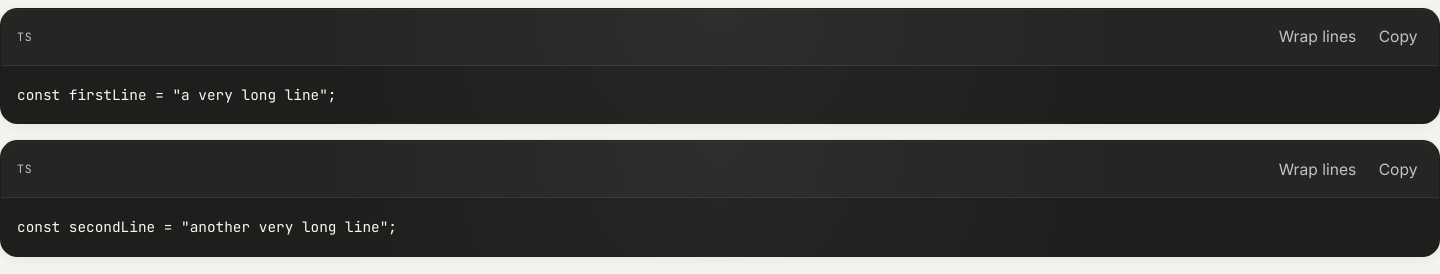
Scenario: CodeBlock › toggles wrapped mode for only the selected code block
Expected: the number of elements with test id "code-block" is 2, [0,8,1439,124]; [0,140,1439,257]
Click the 1st button "Wrap lines" at (1318, 37), box [1271,19,1364,55]
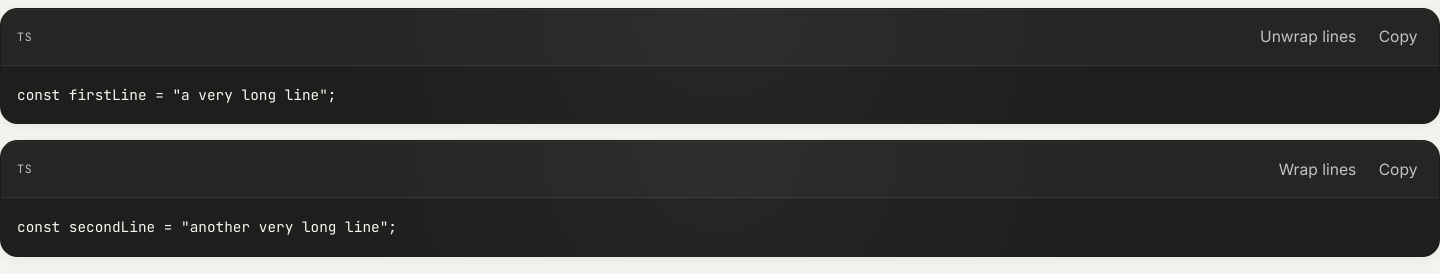
Expected: the button "Wrap lines" is shown, [1271,152,1364,187]
Result: the button "Unwrap lines" is shown at [1252,19,1364,55]
